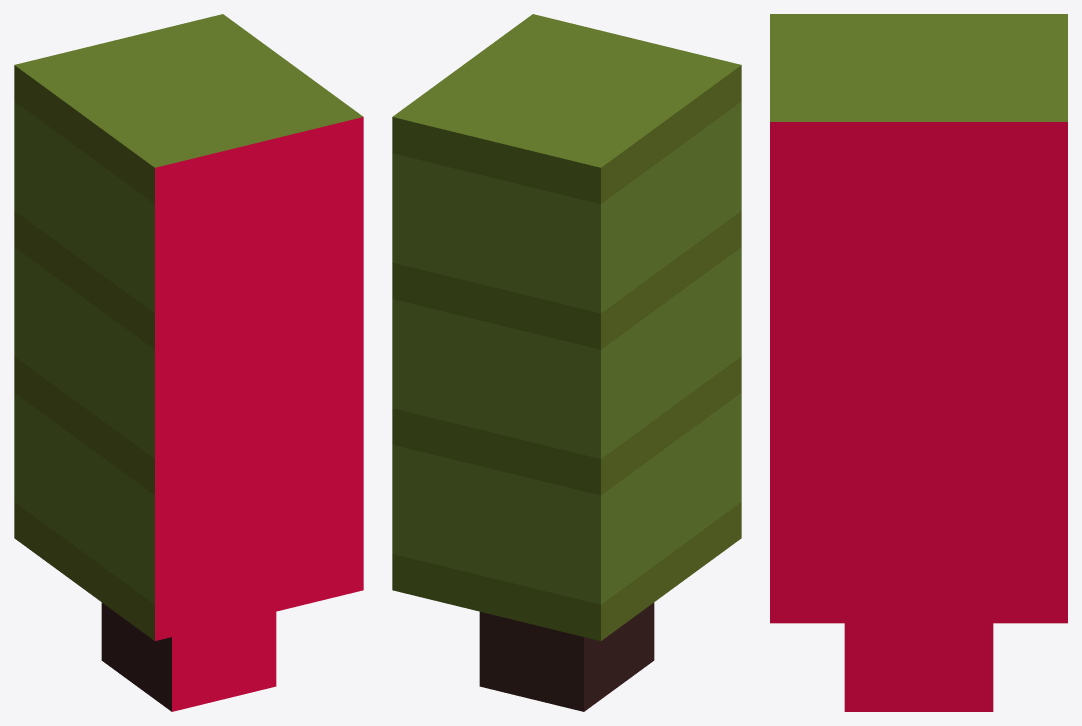
The model's file is tree_3.gltf.
The picture shows the model from 3 angles, left to right: view 1: azimuth 30°, elevation 25°; view 2: azimuth 150°, elevation 25°; view 3: azimuth 270°, elevation 25°; orthographic projection. The views are drawn at different scales.
Visible parts, largest first — view 1: mesh; view 2: mesh; view 3: mesh.
Boxes of the visible parts, <box> form: mesh: <box>14,14,363,711</box>; mesh: <box>392,14,741,711</box>; mesh: <box>770,14,1067,711</box>.
Size of the model in its own units: 0.75 by 2 by 0.875.
Materials: 1 (1 with a texture image).
